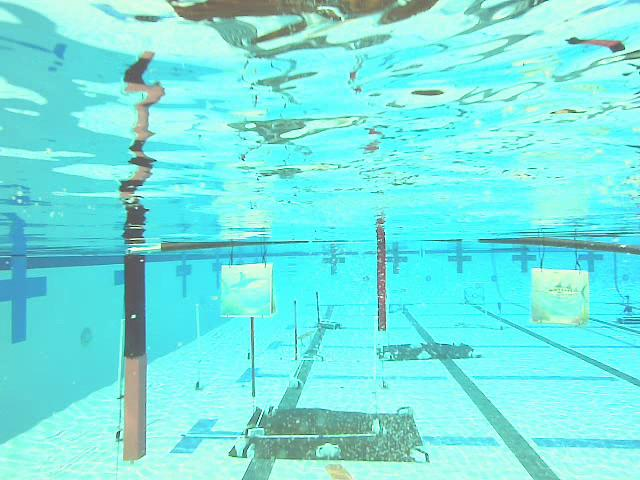black_poster: (250, 307, 258, 395), (293, 301, 299, 357), (316, 293, 323, 330)
divider: (377, 240, 385, 332)
left_gate_poster: (124, 255, 147, 462)
shark: (220, 266, 273, 320)
swordfish: (532, 270, 591, 329)
white_poster: (193, 304, 203, 362)
